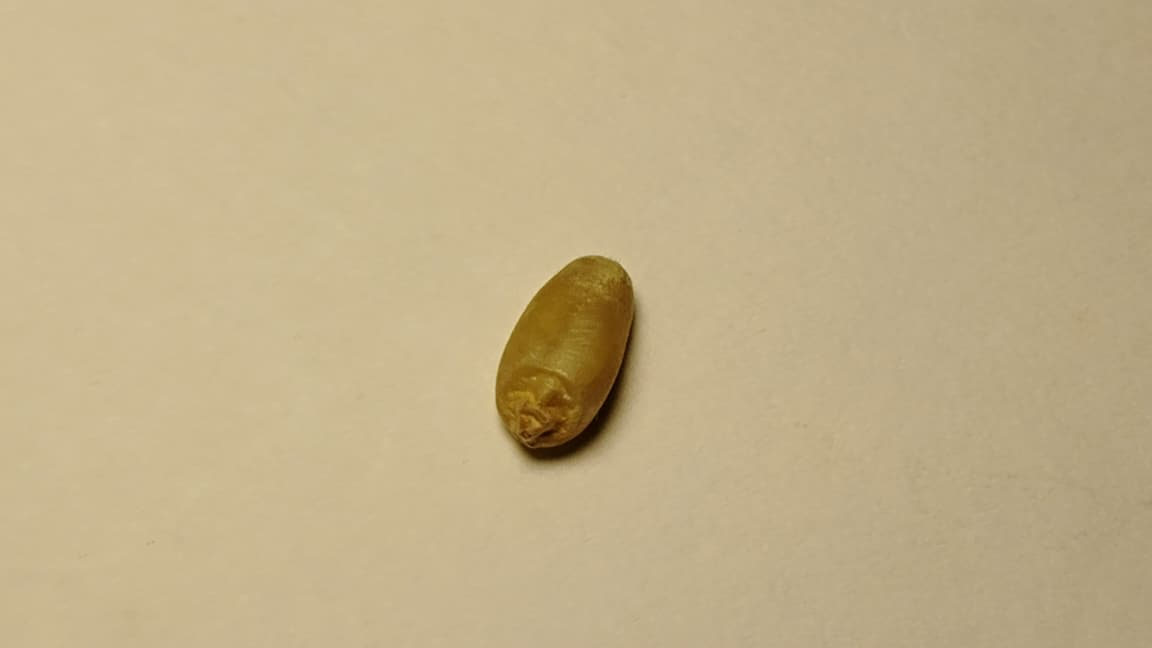healthy: (497, 256, 633, 450)
